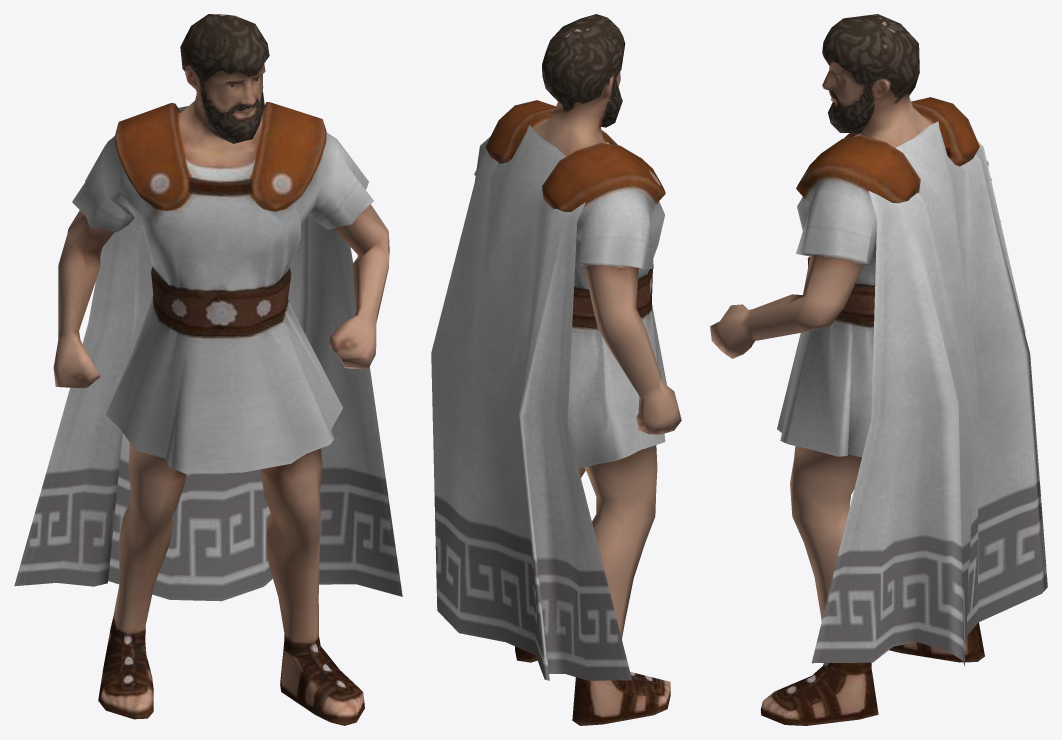
Rendered from body-base.glb.
3 renders of one model, left to right at view 1: azimuth 30°, elevation 25°; view 2: azimuth 150°, elevation 25°; view 3: azimuth 270°, elevation 25°, orthographic. The views are drawn at different scales.
Bounding box in the file's own units: 0.8764 × 2.06 × 0.9512.
1 material, 1 textured.
